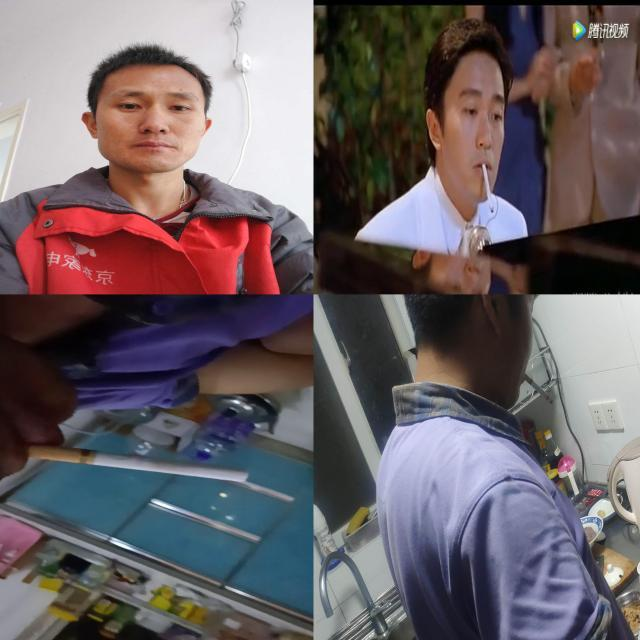cigarette: (27, 446, 250, 482), (523, 372, 554, 406), (482, 163, 495, 214)
